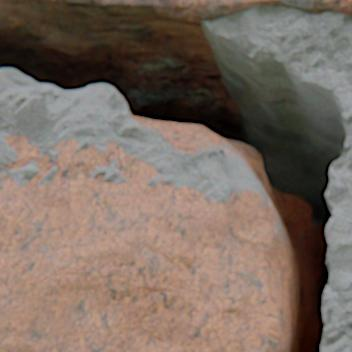brick: (0, 136, 278, 351), (22, 0, 351, 22)
crack: (0, 0, 351, 351)
